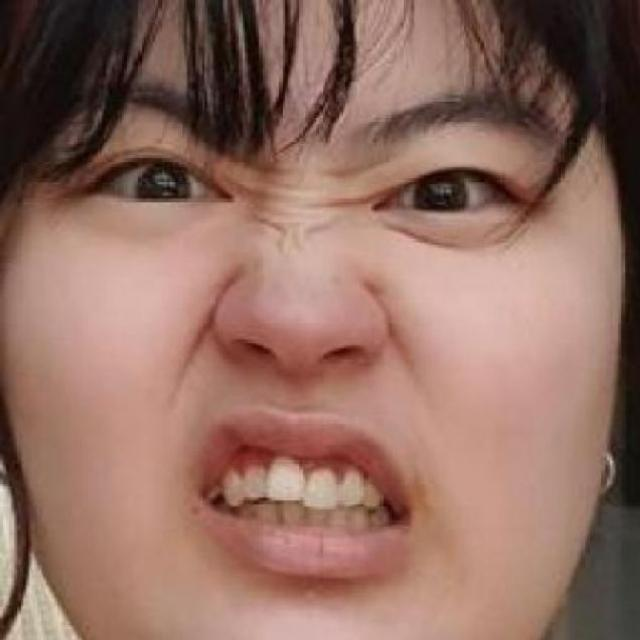Angry: (54, 38, 640, 638)
